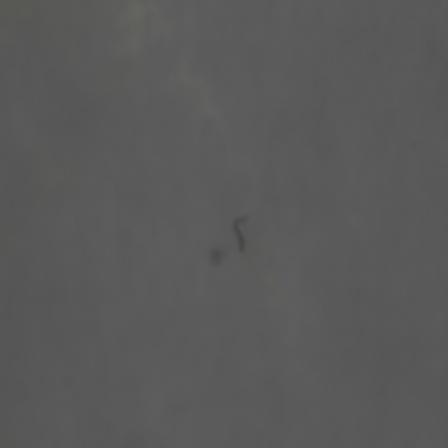Jentik-Nyamuk: (228, 206, 259, 259)
